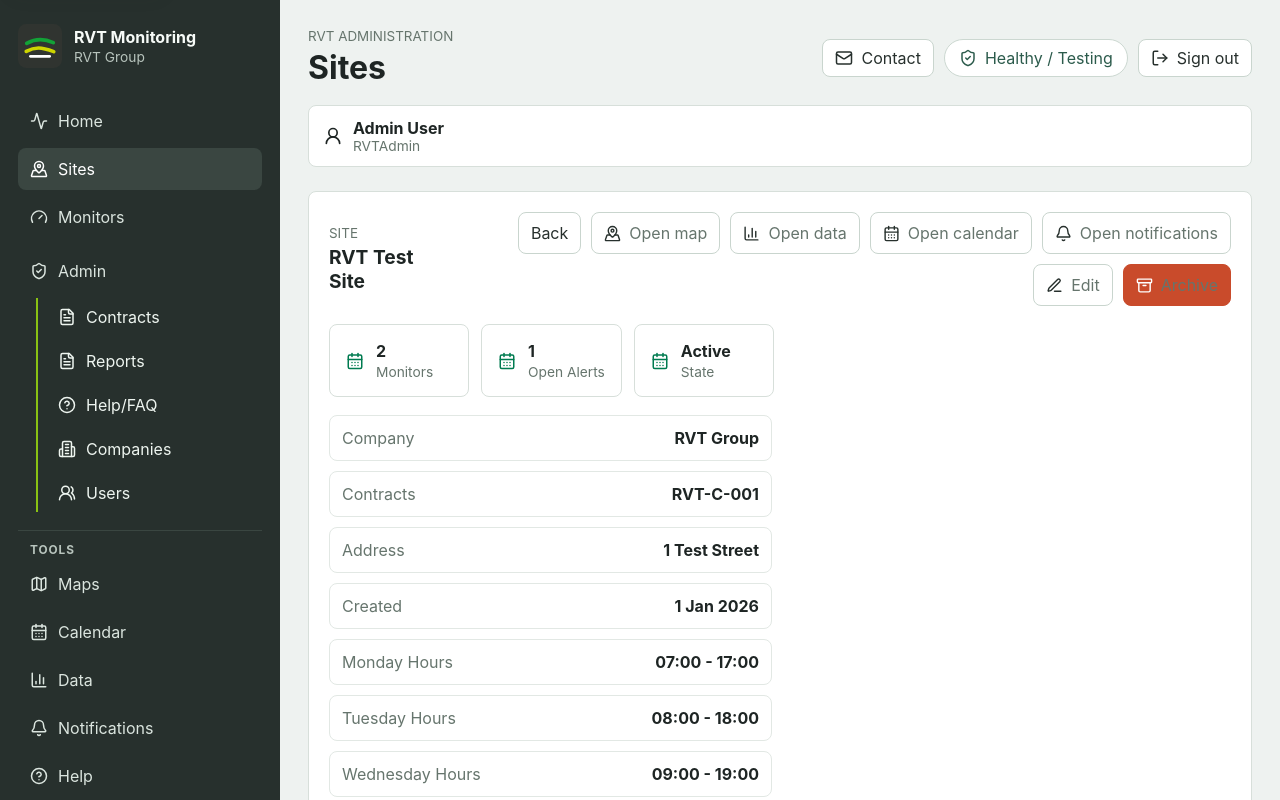
it: App › renders site detail shortcuts for map data calendar and notifications
Expected: the heading "RVT Test Site" is shown, [329, 245, 413, 293]
Expected: the button "Open map" is shown, [591, 212, 720, 254]
Click the button "Open data".
click(795, 233)  # box [730, 212, 860, 254]
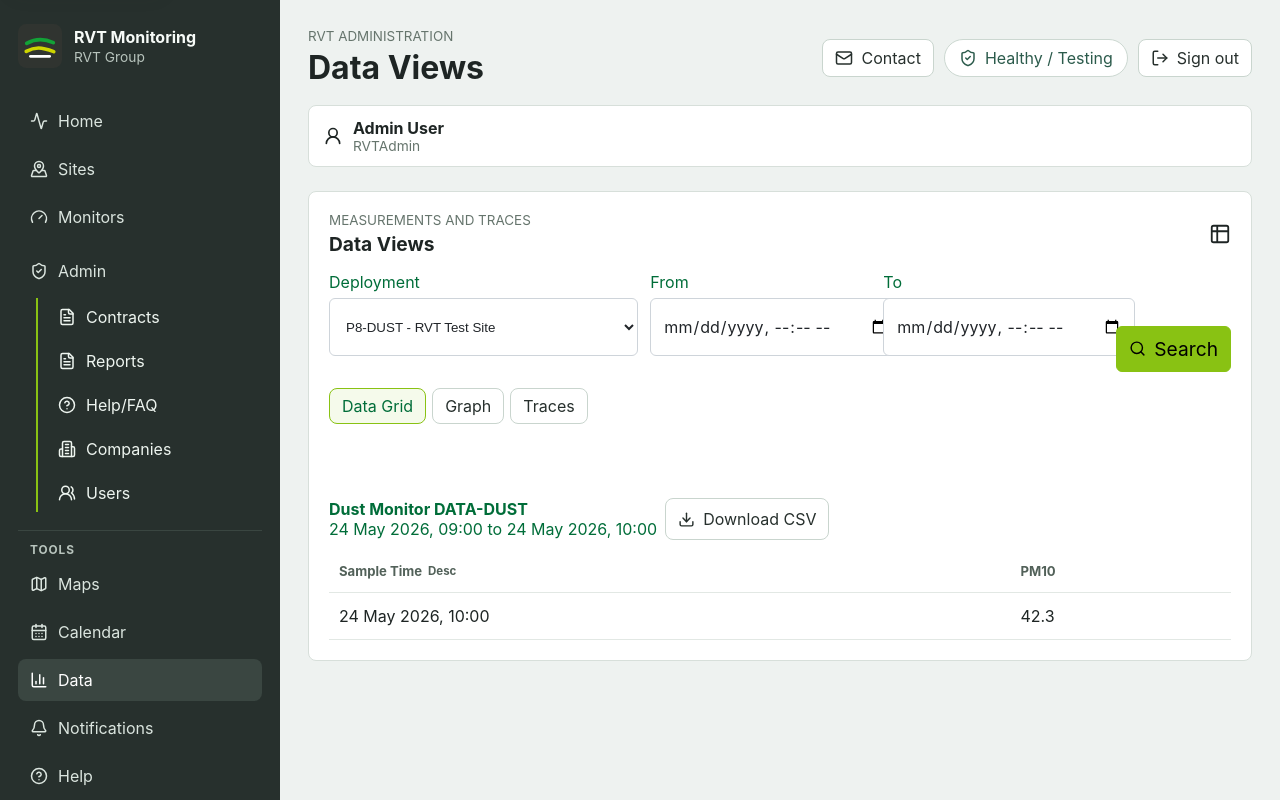
Expected: the heading "Data Views" below "RVT administration" is shown, [308, 48, 484, 87]
Expected: the heading "Dust Monitor DATA-DUST" is shown, [329, 499, 528, 519]
